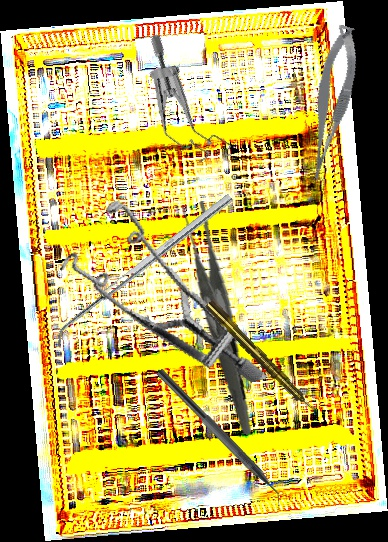Chopper: (147, 368, 292, 513)
Dressing Forceps: (162, 199, 271, 435)
Handpiece: (203, 298, 319, 416)
Micro Scissor: (289, 23, 372, 184)
Spatula Surgical: (49, 193, 239, 348)
Speculum: (46, 174, 268, 425), (108, 31, 264, 178)
